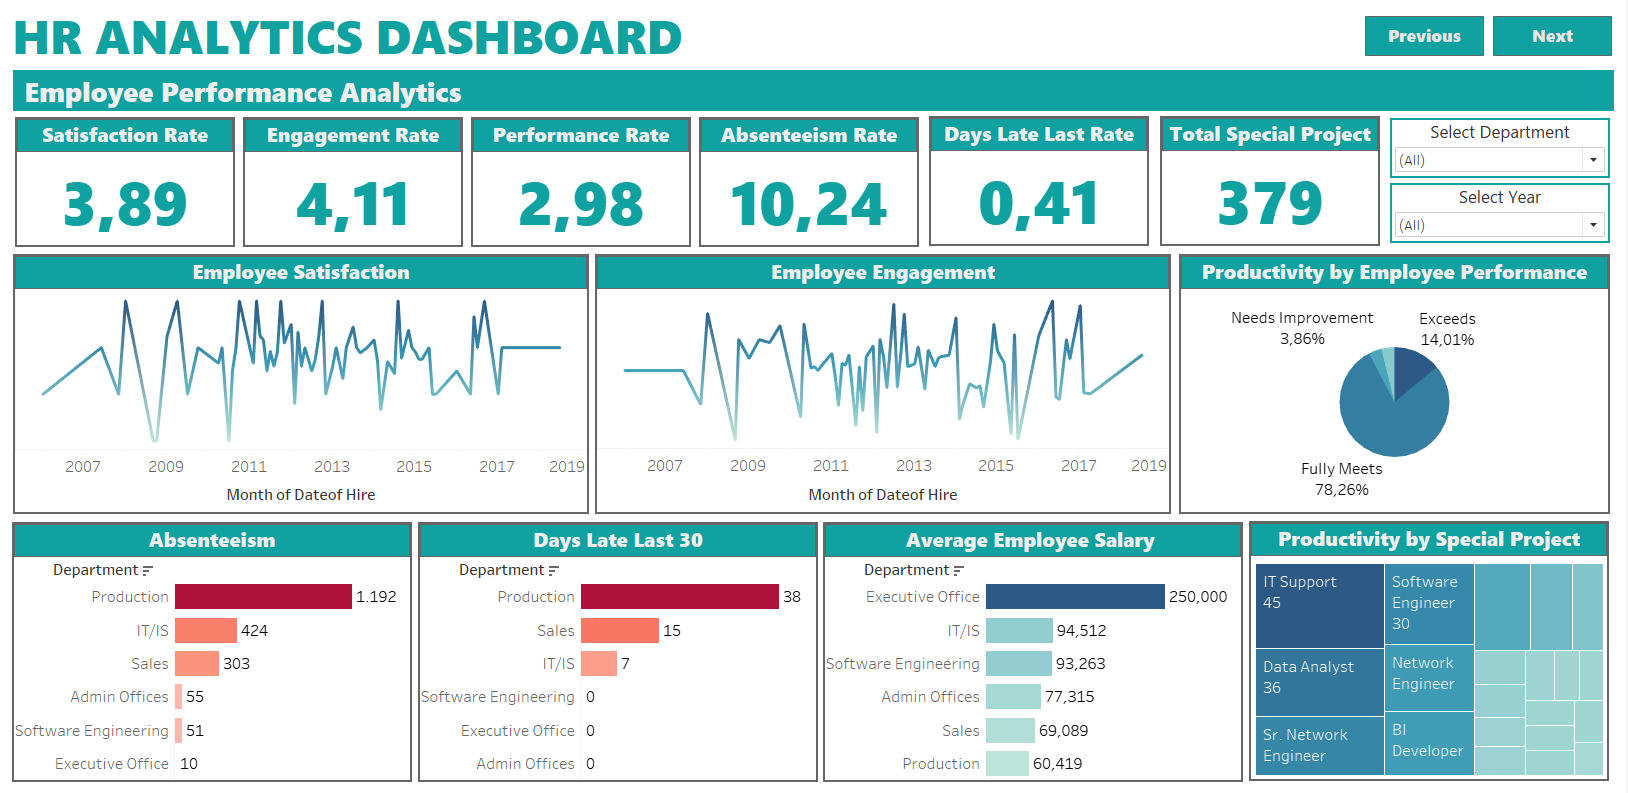

The dashboard page shown, as its layout file describes it:
{"tool":"tableau","page":{"name":"Performance Dashboard","canvas":[1628,797],"ordinal":1},"visuals":[{"type":"text","box":[11,11,1122,48]},{"type":"dashboard-object","box":[1366.6,16,119.3,40]},{"type":"dashboard-object","box":[1494.8,16,119.3,40]},{"type":"text","box":[14.9,70,1601.2,41]},{"type":"worksheet","title":"Day Late Rate","mark":"Automatic","box":[931,116,220,130]},{"type":"worksheet","title":"Special Project","mark":"Automatic","box":[1162,116,220,130]},{"type":"worksheet","title":"Satisfaction Rate","mark":"Automatic","box":[17,117,220,130]},{"type":"worksheet","title":"Engagement Rate","mark":"Automatic","box":[245,117,220,130]},{"type":"worksheet","title":"Performance Rate","mark":"Automatic","box":[473,117,220,130]},{"type":"worksheet","title":"Absenteeism Rate","mark":"Automatic","box":[701,117,220,130]},{"type":"filter","title":"Absenteeism","param":"[federated.1cbo8zl0zj2pph1333hl70rxxw1a].[none:Department:nk]","box":[1392,118,220,60]},{"type":"filter","title":"Absenteeism","param":"[federated.1cbo8zl0zj2pph1333hl70rxxw1a].[yr:DateofHire:ok]","box":[1392,183,220,60]},{"type":"worksheet","title":"Employee Satisfaction","mark":"Automatic","rows":["EmpSatisfaction"],"cols":["DateofHire"],"box":[14.9,254,576.5,260]},{"type":"worksheet","title":"Employee Engagement","mark":"Automatic","rows":["EngagementSurvey"],"cols":["DateofHire"],"box":[597.3,254,576.5,260]},{"type":"worksheet","title":"Employee Productivity by Performance","mark":"Pie","box":[1180.7,254,431.4,260]},{"type":"worksheet","title":"Employee Productivity by Special Project","mark":"Automatic","box":[1251,521,360,260]},{"type":"worksheet","title":"Absenteeism","mark":"Automatic","rows":["Department"],"cols":["Absences"],"box":[14,522,400,260]},{"type":"worksheet","title":"Days Late Last 30","mark":"Automatic","rows":["Department"],"cols":["DaysLateLast30"],"box":[420,522,400,260]},{"type":"worksheet","title":"Employee Salary","mark":"Automatic","rows":["Department"],"cols":["Salary"],"box":[825,522,420,260]}]}

Visuals, with their boxes in screenshot pixels (x1, y1, x2, y2), scaled from the page's 1628x797 canvas onto the 1628x793 screenshot:
text: 11 11 1133 59
dashboard-object: 1367 16 1486 56
dashboard-object: 1495 16 1614 56
text: 15 70 1616 110
"Day Late Rate" worksheet: 931 115 1151 245
"Special Project" worksheet: 1162 115 1382 245
"Satisfaction Rate" worksheet: 17 116 237 246
"Engagement Rate" worksheet: 245 116 465 246
"Performance Rate" worksheet: 473 116 693 246
"Absenteeism Rate" worksheet: 701 116 921 246
"Absenteeism" filter: 1392 117 1612 177
"Absenteeism" filter: 1392 182 1612 242
"Employee Satisfaction" worksheet: 15 253 591 511
"Employee Engagement" worksheet: 597 253 1174 511
"Employee Productivity by Performance" worksheet (Pie marks): 1181 253 1612 511
"Employee Productivity by Special Project" worksheet: 1251 518 1611 777
"Absenteeism" worksheet: 14 519 414 778
"Days Late Last 30" worksheet: 420 519 820 778
"Employee Salary" worksheet: 825 519 1245 778
